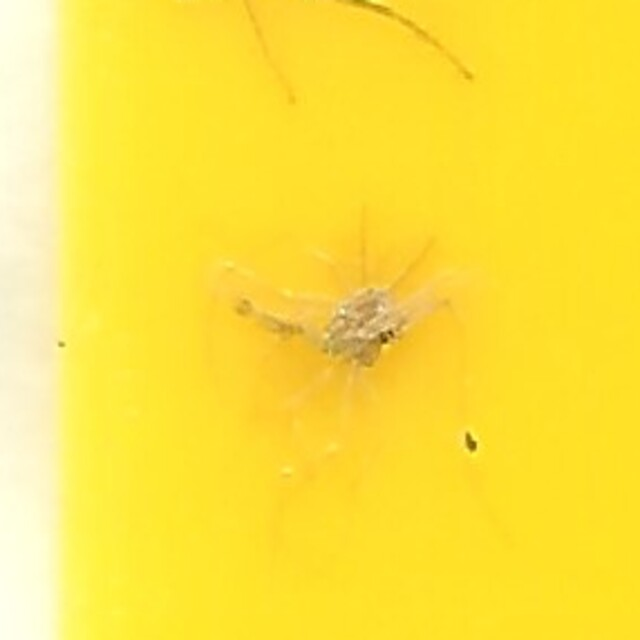Nematocera: (224, 255, 416, 385)
